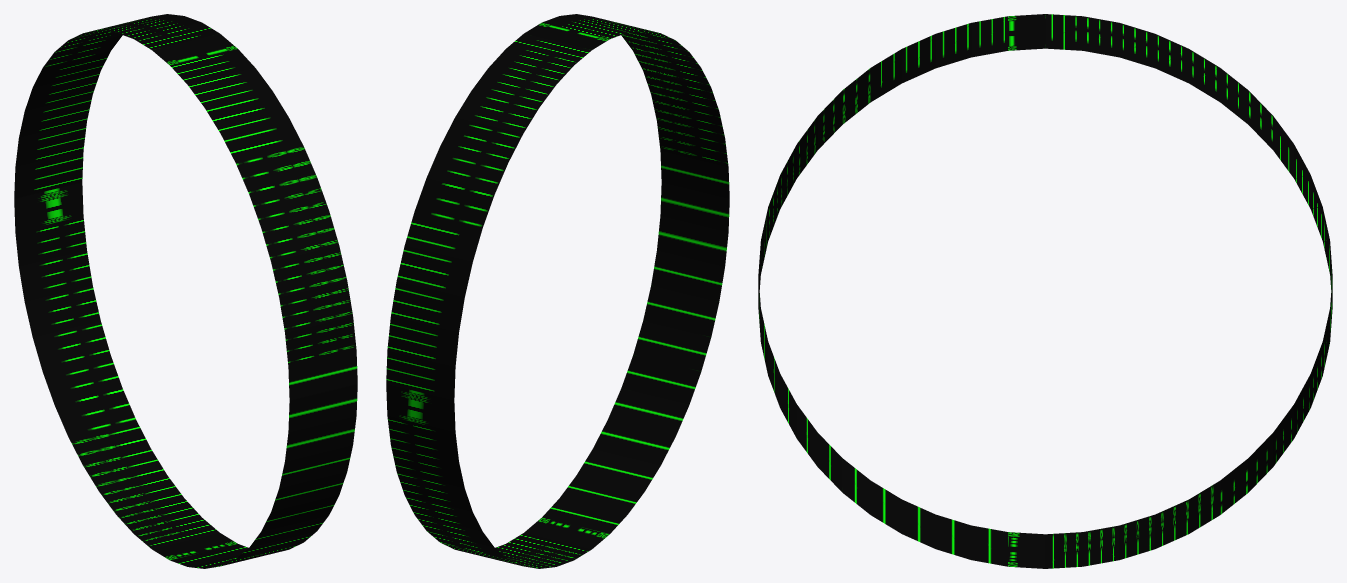
The model's file is ring 1.obj.
3 renders of one model, left to right at view 1: azimuth 30°, elevation 25°; view 2: azimuth 150°, elevation 25°; view 3: azimuth 270°, elevation 25°, orthographic. The views are drawn at different scales.
Visible parts, largest first — view 1: Torus; view 2: Torus; view 3: Torus.
Boxes of the visible parts, x1,y1,x2,y2 form: Torus: [14, 14, 357, 568]; Torus: [386, 14, 729, 568]; Torus: [758, 14, 1332, 568].
Size of the model in its own units: 1.71 by 11.97 by 11.97.
